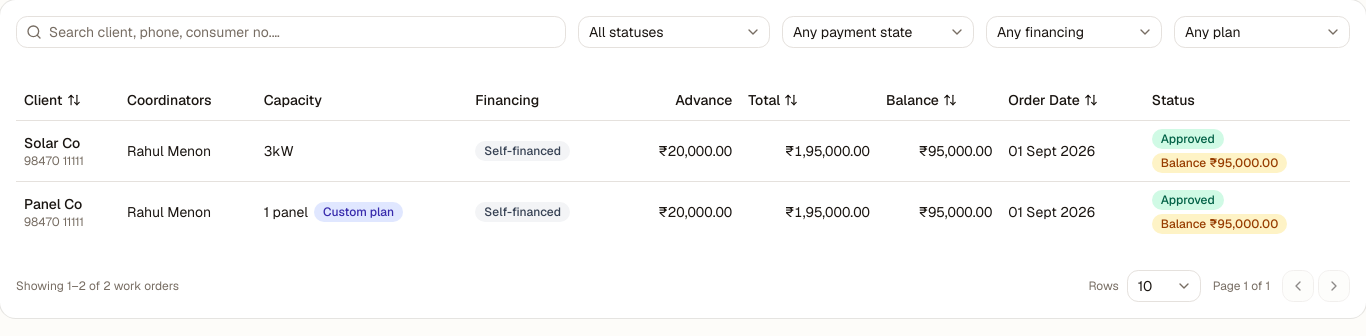
Test: WorkOrdersTable — filters › filters by plan
Click the dropdown labelled "Any plan" at x=1262, y=32, box [1174,16,1350,48]
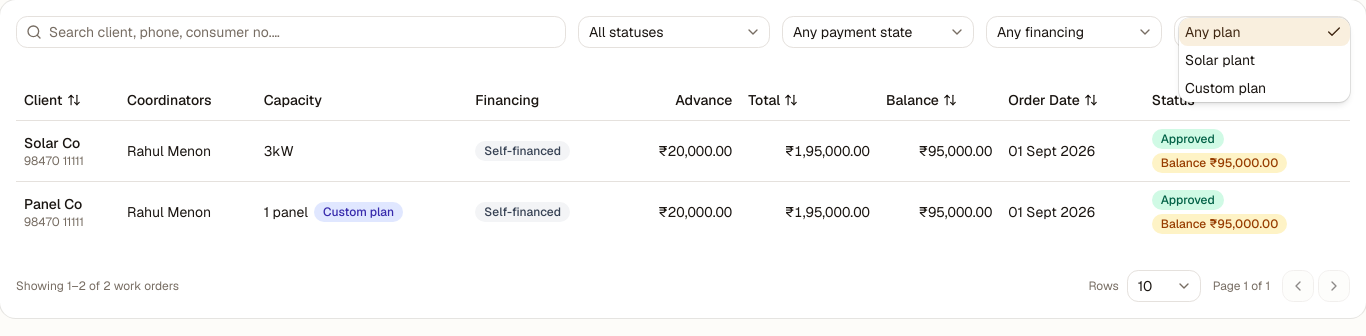
Click the option "Custom plan" at x=1226, y=88, box [1185,79,1266,97]
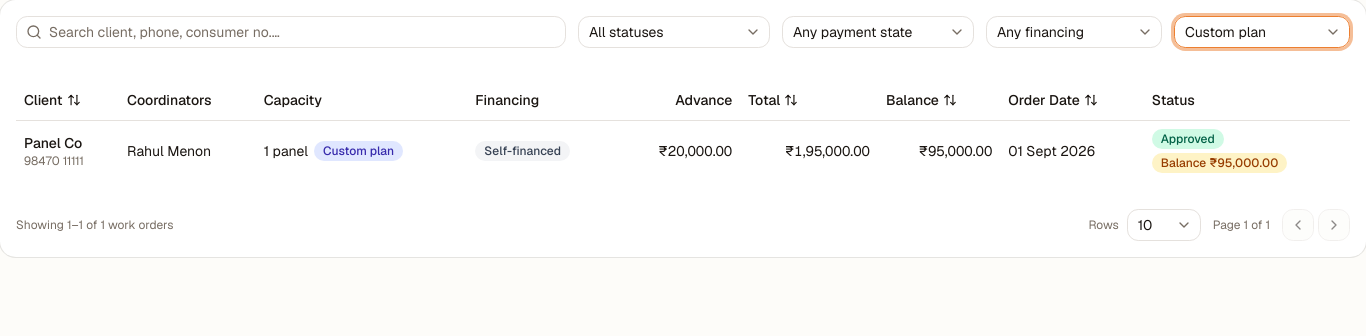
Check: the row that starts with "Panel Co" is shown, box [24,134,82,152]
Click the dropdown labelled "Custom plan" at x=1262, y=32, box [1174,16,1350,48]
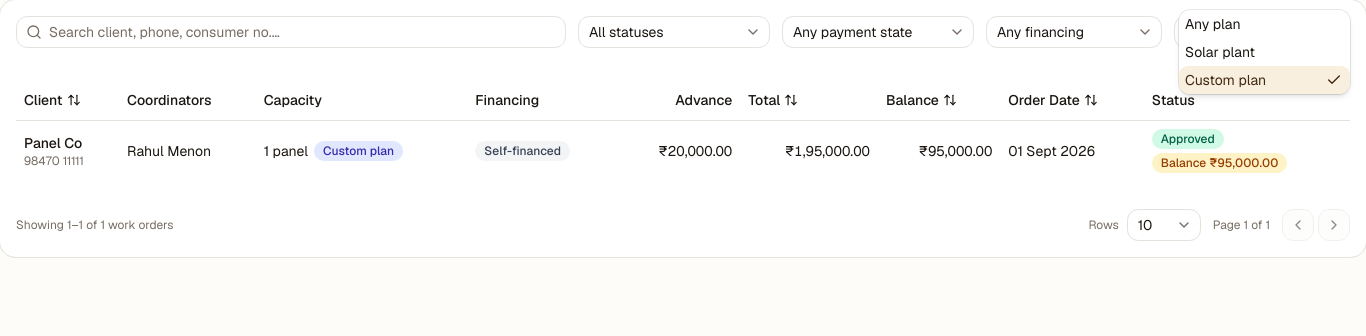
Click the option "Solar plant" at x=1220, y=52, box [1185,43,1255,61]
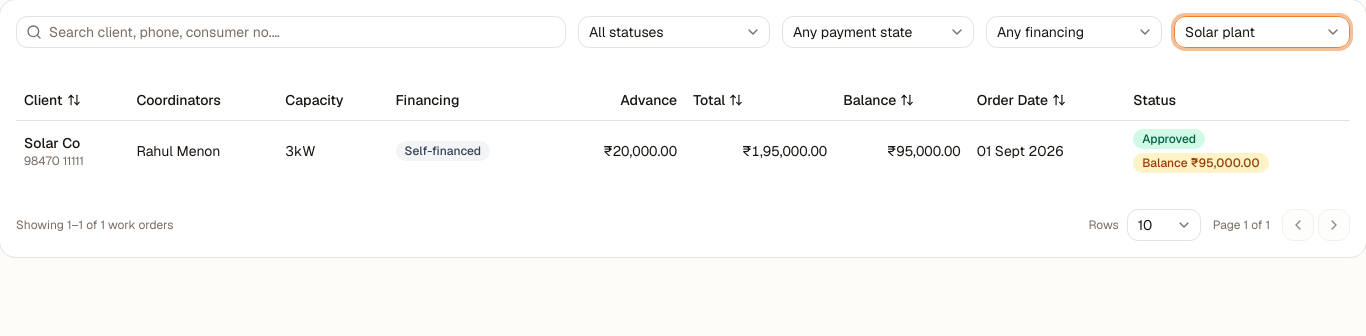
Check: the row that starts with "Solar Co" is shown, box [24,134,80,152]
